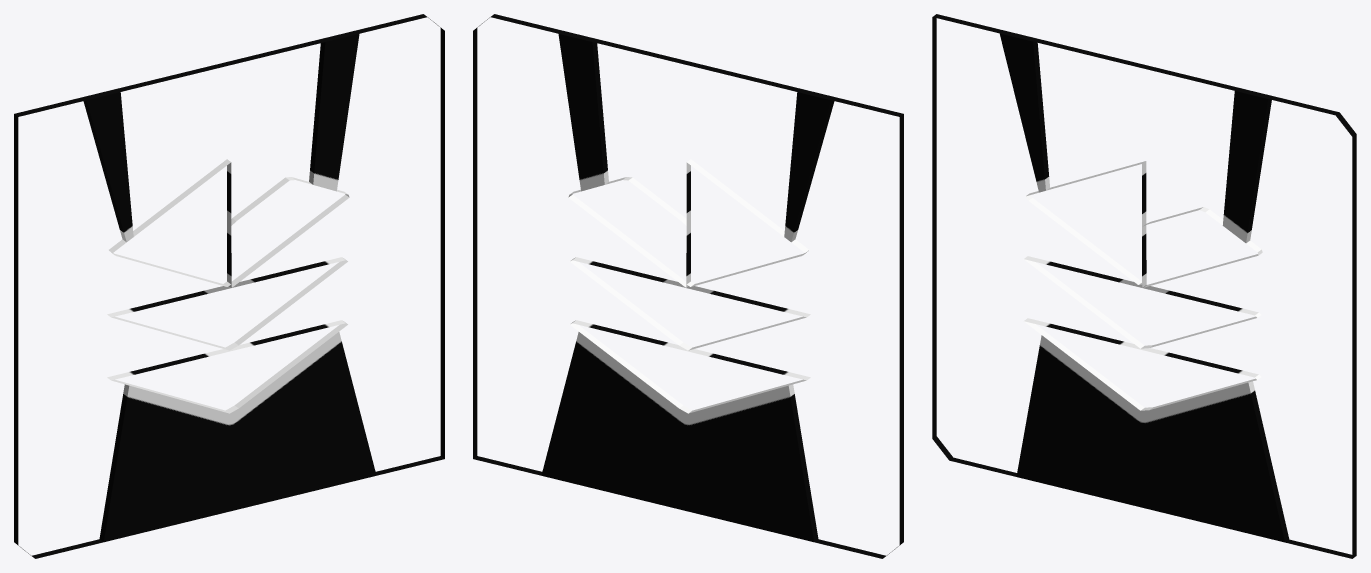
Rendered from grafbase.glb.
3 views of the same model, side by side, from view 1: azimuth 30°, elevation 25°; view 2: azimuth 150°, elevation 25°; view 3: azimuth 330°, elevation 25° (orthographic).
Visible parts, largest first — view 1: Curve; view 2: Curve; view 3: Curve.
Part boxes in pixels (<box>): Curve: <box>14,14,444,558</box>; Curve: <box>473,14,903,558</box>; Curve: <box>932,14,1356,558</box>.
Size of the model in its own units: 0.289 by 0.2889 by 0.005.
Materials: 1 (1 with a texture image).
